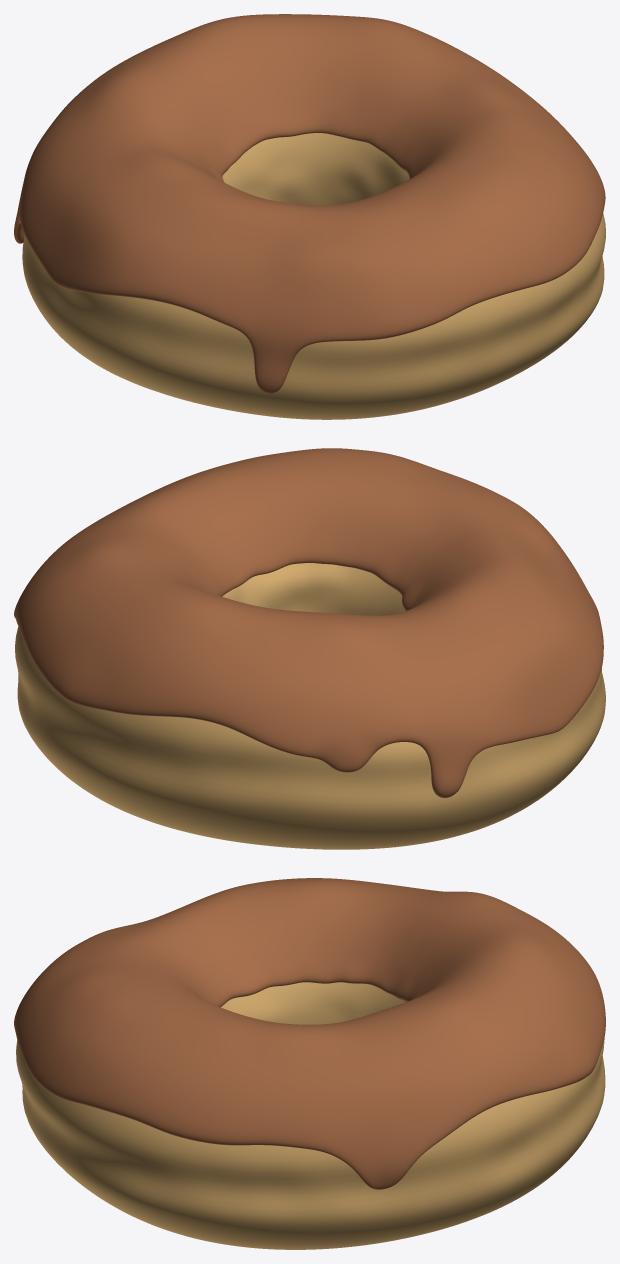
Rendered from donut.glb.
3 views of the same model, one above another, from view 1: azimuth 30°, elevation 25°; view 2: azimuth 150°, elevation 25°; view 3: azimuth 270°, elevation 25° (orthographic). The views are drawn at different scales.
Visible parts, largest first — view 1: Icing, Donut; view 2: Icing, Donut; view 3: Icing, Donut.
Part boxes in pixels (box(x1,y1,x2,y2)): Icing: box(14, 14, 605, 393); Donut: box(22, 133, 605, 419); Icing: box(14, 448, 603, 798); Donut: box(15, 563, 605, 849); Icing: box(14, 878, 605, 1189); Donut: box(16, 982, 605, 1249).
Size of what is drawn, in the model's own units: 0.1461 by 0.0637 by 0.1517.
